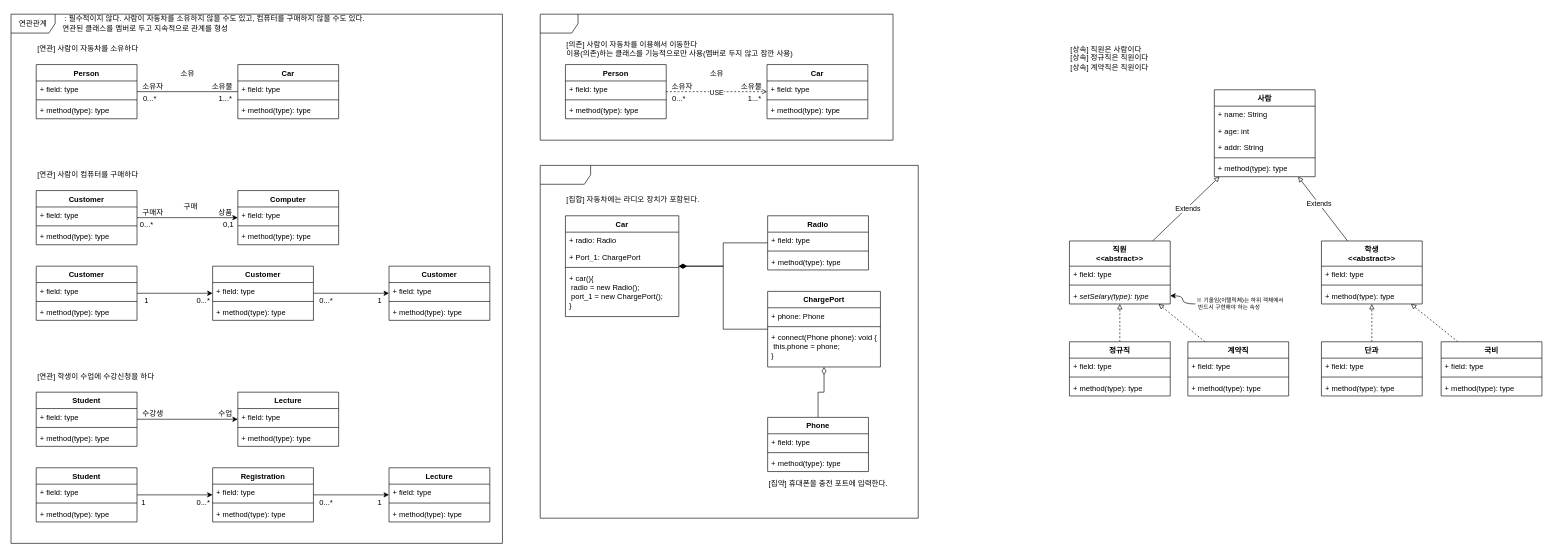
Some shapes in this 1553 by 554 pixel diagram are drawn without their labels. Each missing label, with the centre of its shape:
의존: the point at 716,77
집합/집약: the point at 729,341
